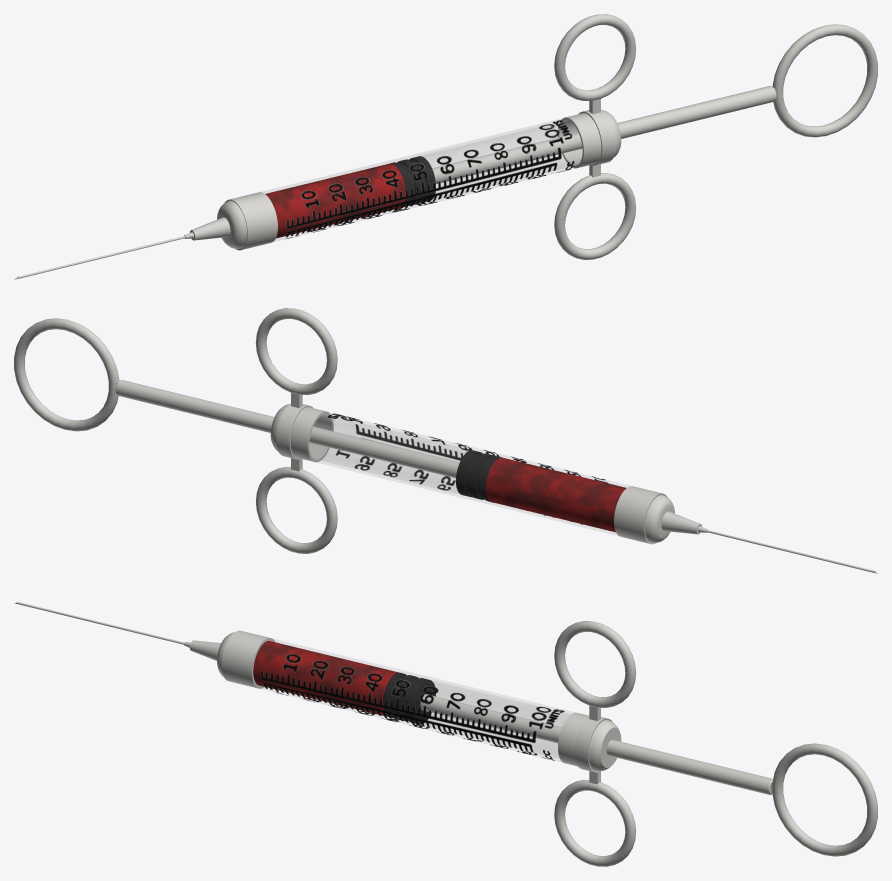
The model's file is item-syringe.glb.
3 views of the same model, one above another, from view 1: azimuth 30°, elevation 25°; view 2: azimuth 150°, elevation 25°; view 3: azimuth 330°, elevation 25° (orthographic).
Visible parts, largest first — view 1: Syringe_With_Blood_SM; view 2: Syringe_With_Blood_SM; view 3: Syringe_With_Blood_SM.
Boxes of the visible parts, bbox=[...] form: Syringe_With_Blood_SM: bbox=[14, 14, 877, 279]; Syringe_With_Blood_SM: bbox=[14, 308, 877, 573]; Syringe_With_Blood_SM: bbox=[14, 602, 877, 866].
Bounding box in the file's own units: 0.2623 × 0.0705 × 0.0145.
Materials: 3 (3 with a texture image).
